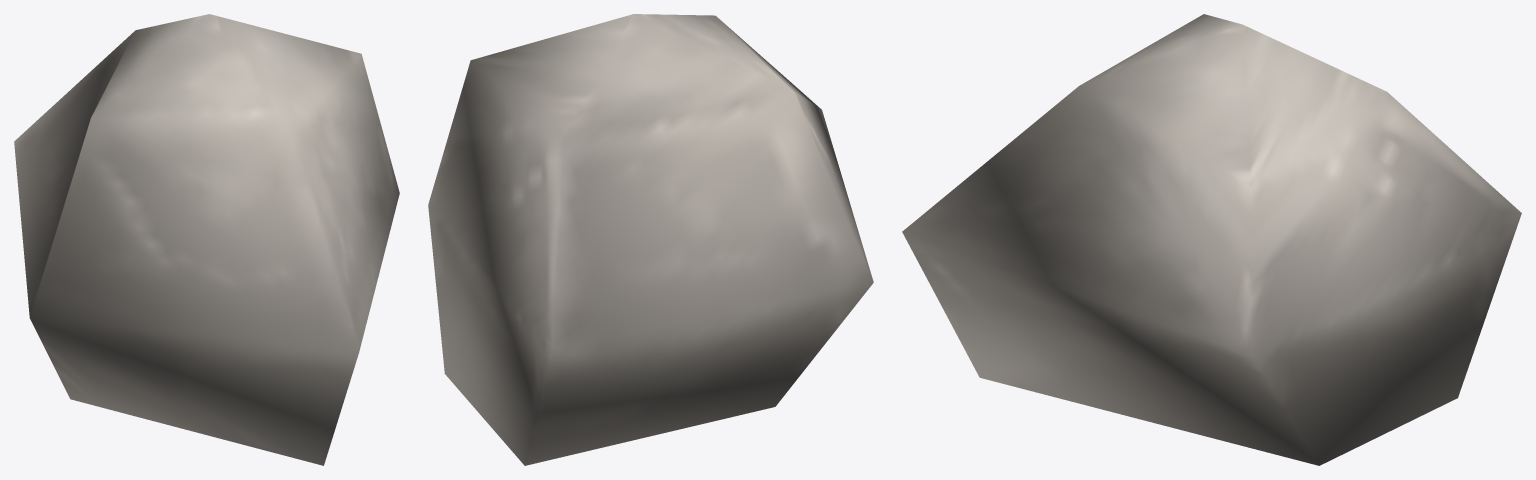
File: Rock.fbx
3 views of the same model, side by side, from view 1: azimuth 30°, elevation 25°; view 2: azimuth 150°, elevation 25°; view 3: azimuth 270°, elevation 25° (orthographic).
Visible parts, largest first — view 1: Rock; view 2: Rock; view 3: Rock.
Part boxes in pixels (x1,y1,x2,y2): Rock: (14, 14, 399, 465); Rock: (428, 14, 873, 465); Rock: (902, 14, 1521, 465).
Bounding box in the file's own units: 103 × 100 × 134.
